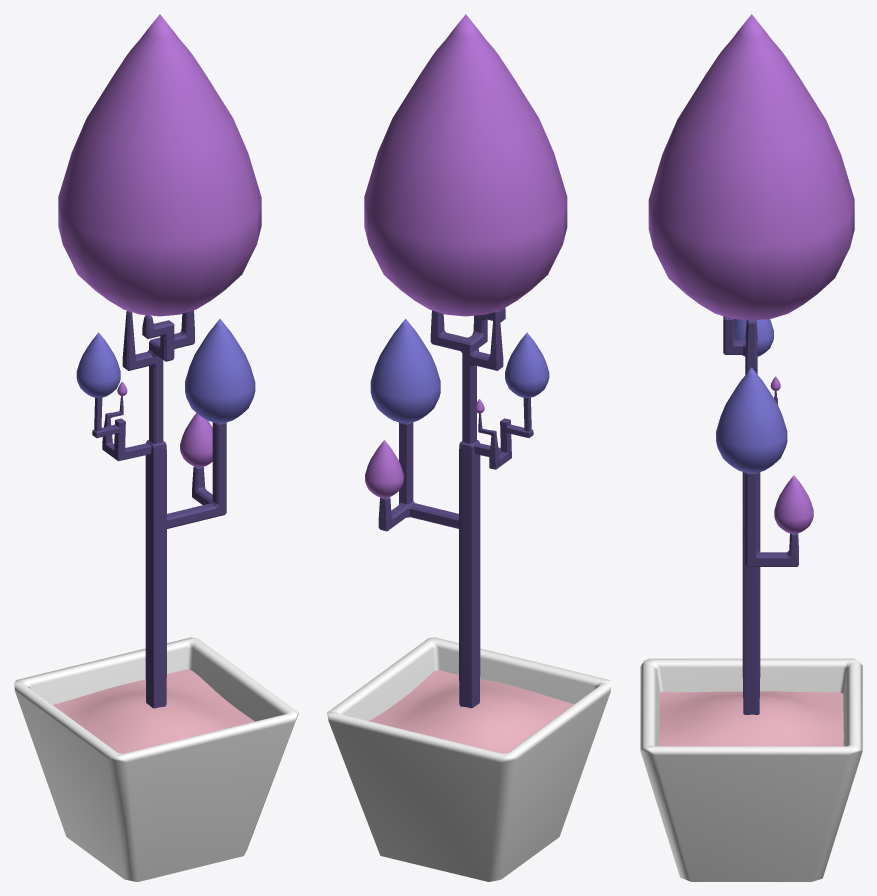
The model's file is plant.fbx.
3 views of the same model, side by side, from view 1: azimuth 30°, elevation 25°; view 2: azimuth 150°, elevation 25°; view 3: azimuth 270°, elevation 25° (orthographic).
Visible parts, largest first — view 1: plantBud4; view 2: plantBud4; view 3: plantBud4.
Boxes of the visible parts, x1,y1,x2,y2 form: plantBud4: (14,14,298,881); plantBud4: (327,14,611,881); plantBud4: (640,14,862,881).
Bounding box in the file's own units: 8.62 × 36.04 × 8.62.
